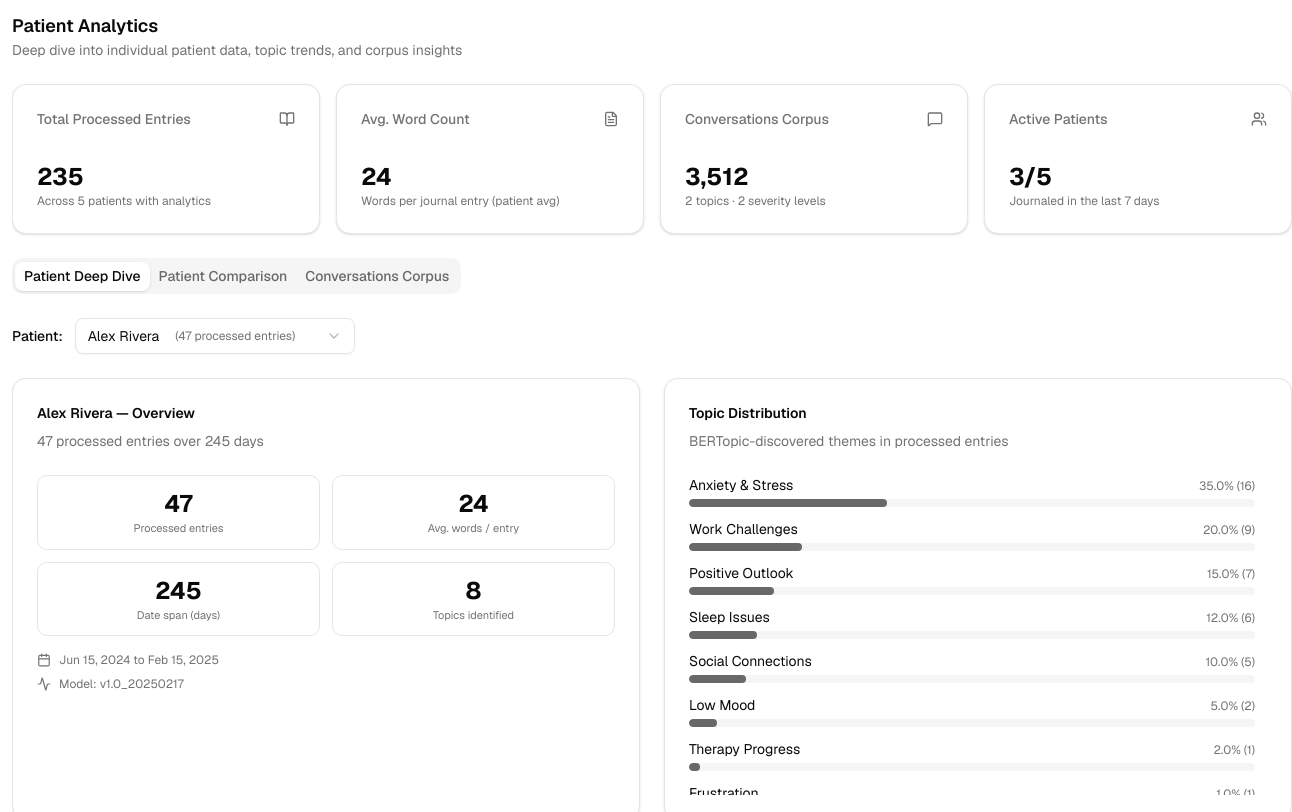
Analytics page › has conversation corpus tab with topic and severity content
The image size is (1292, 812).
Click the tab "Conversations Corpus": coordinates (377, 276) [296, 262, 458, 290]
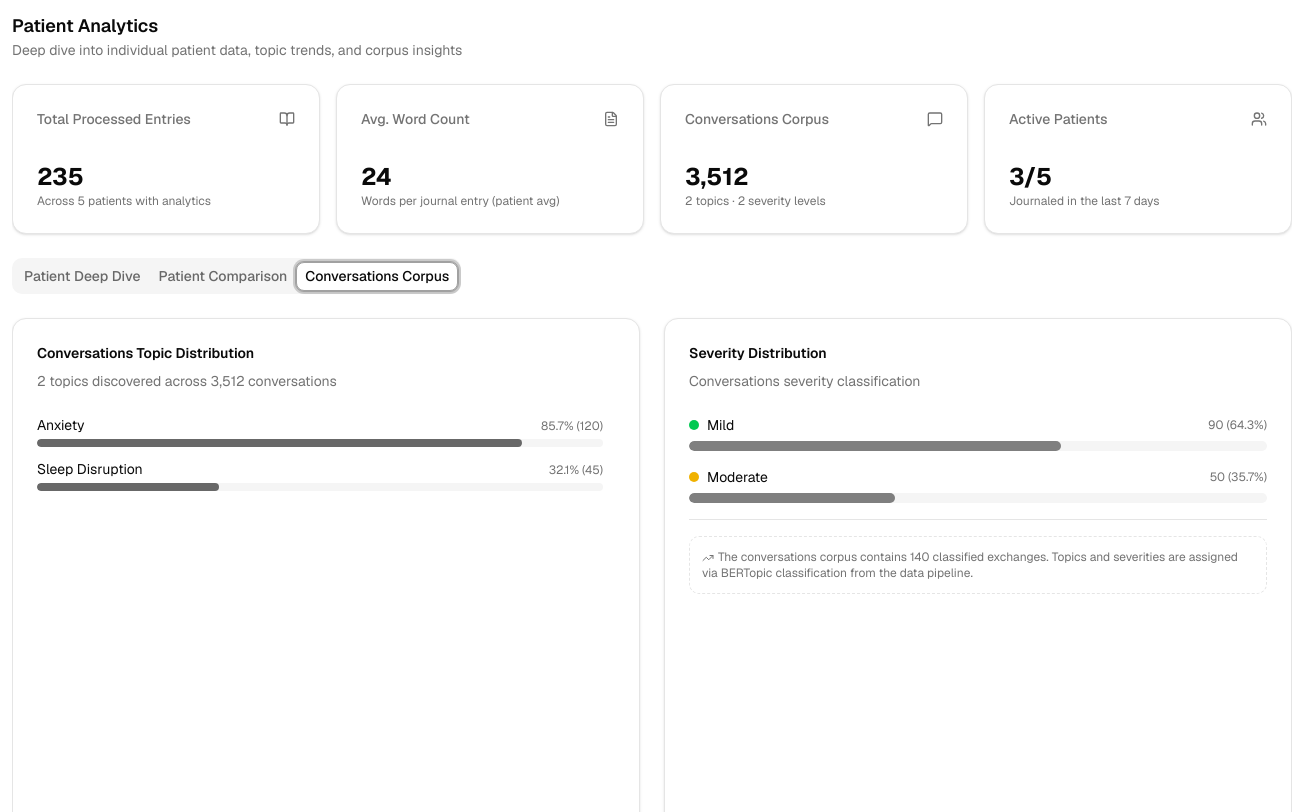
Expected: the text "Conversations Topic Distribution" is shown, [37, 344, 254, 362]
Expected: the text "Severity Distribution" is shown, [689, 344, 827, 362]
